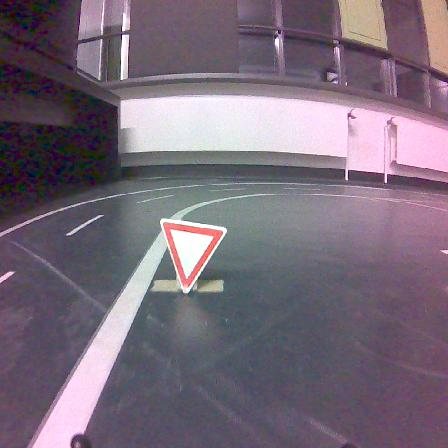GIVE_WAY: (160, 219, 226, 293)
